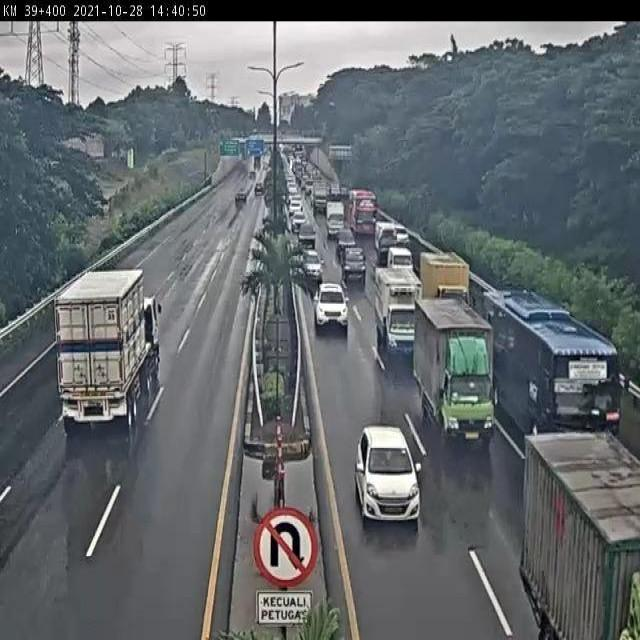big truck: (56, 269, 160, 431)
bus-l-: (481, 289, 622, 451)
car: (354, 424, 421, 524), (312, 282, 351, 330), (340, 246, 367, 282), (387, 247, 415, 277), (299, 248, 322, 283)
truck-m-: (412, 298, 495, 446), (372, 266, 418, 350), (419, 250, 470, 302)
